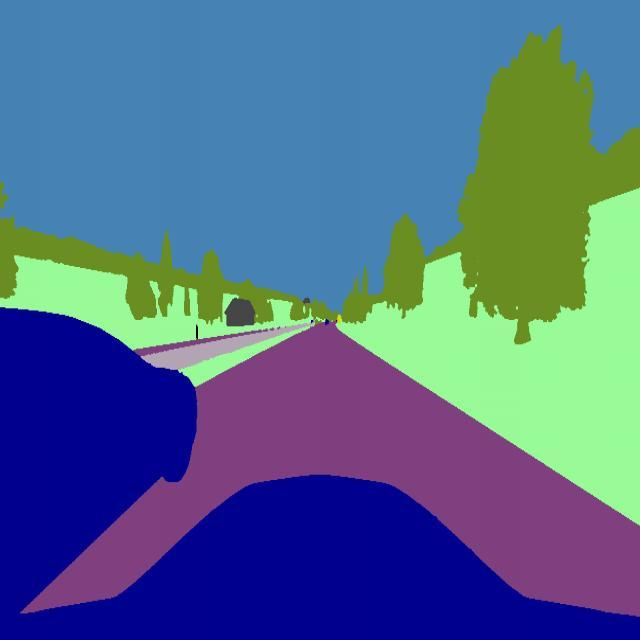unsafe: (0, 296, 198, 634)
